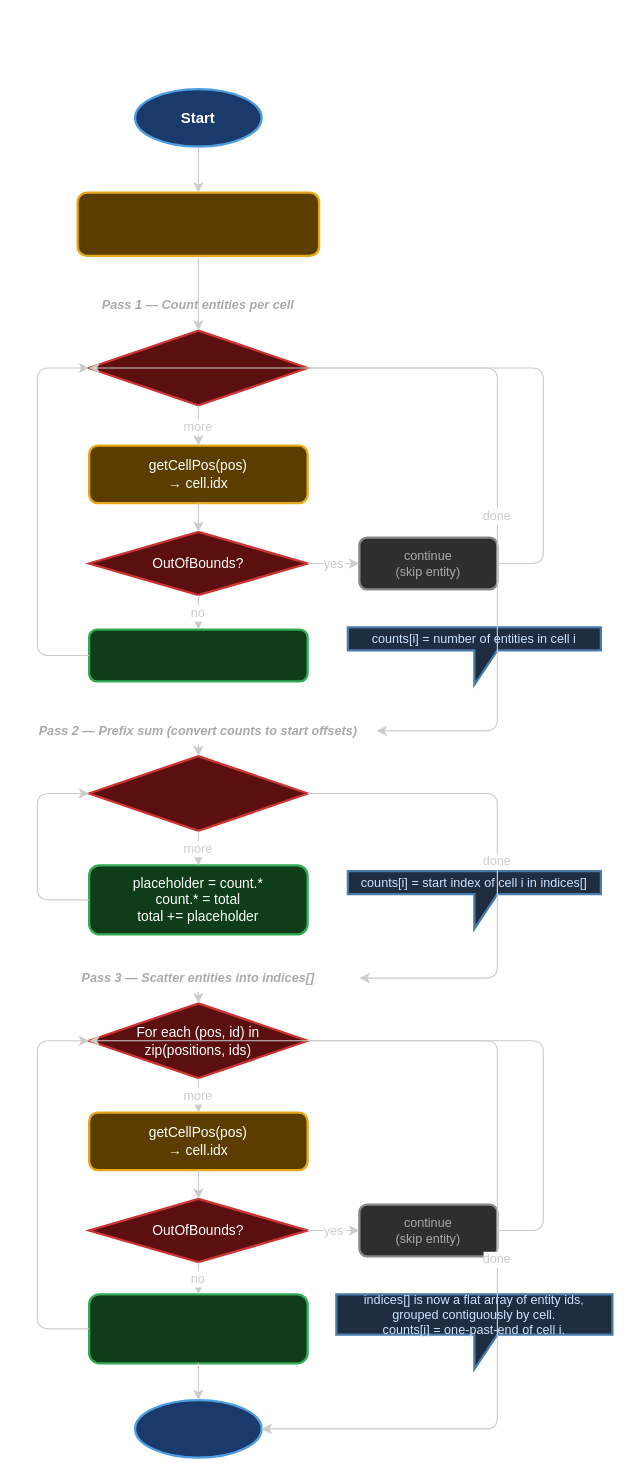
The diagram is 633 pixels wide and 1478 high, and some of its shapes have lost their labels. The shapes that lost their labels are listed below. From the top down, each one's centre as x and y in pixels, then its label:
At (x=198, y=223): "@memset(counts, 0) Reset all cell counts to zero".
At (x=197, y=367): "For each pos in positions".
At (x=197, y=655): "counts[cell.idx] += 1".
At (x=197, y=792): "For each *count in counts".
At (x=197, y=1328): "cursor = &counts[cell.idx] indices[cursor.*] = id cursor.* += 1".
At (x=197, y=1428): "End".
